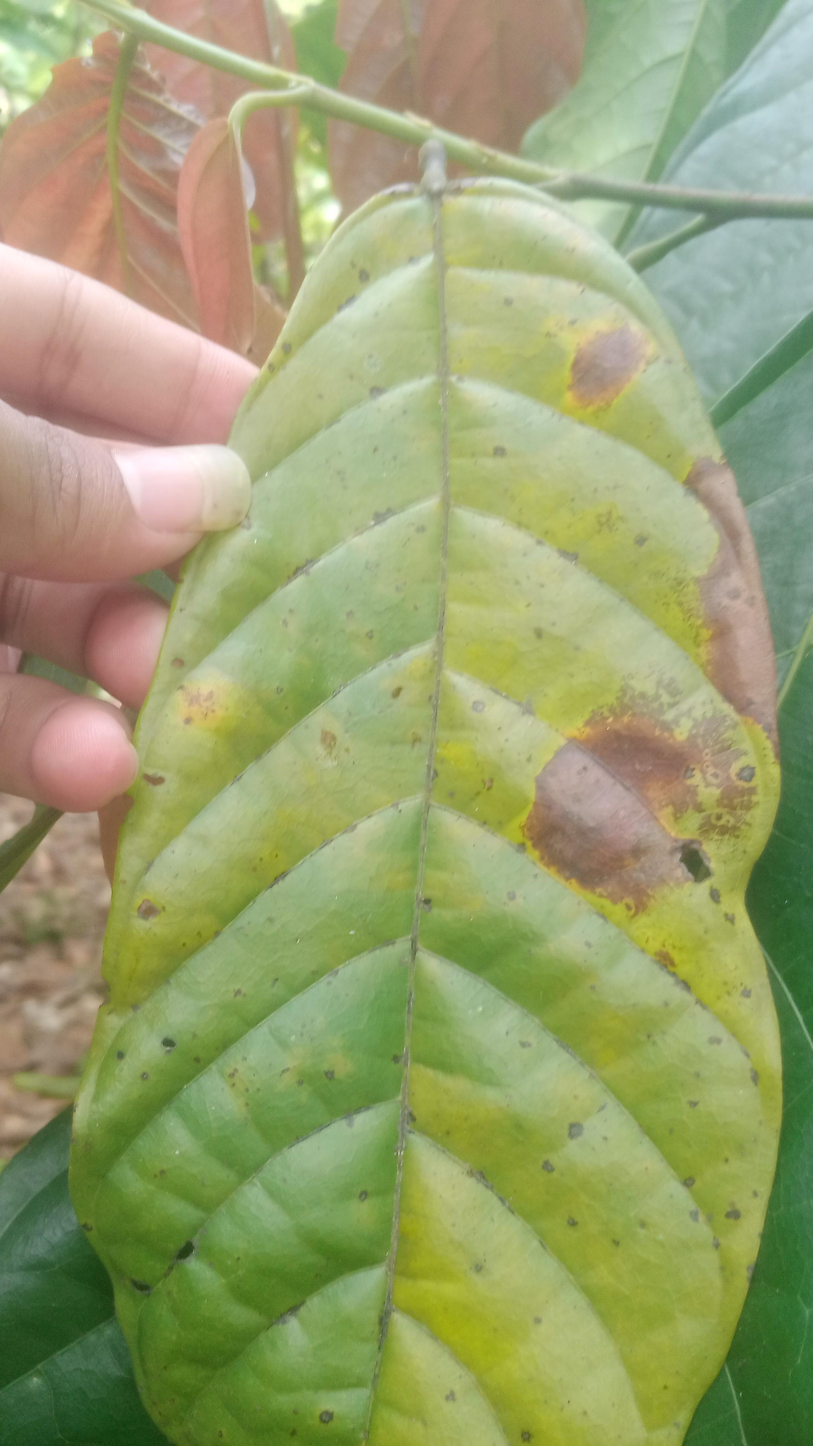deficiencia_potasio: (83, 166, 798, 1446)
